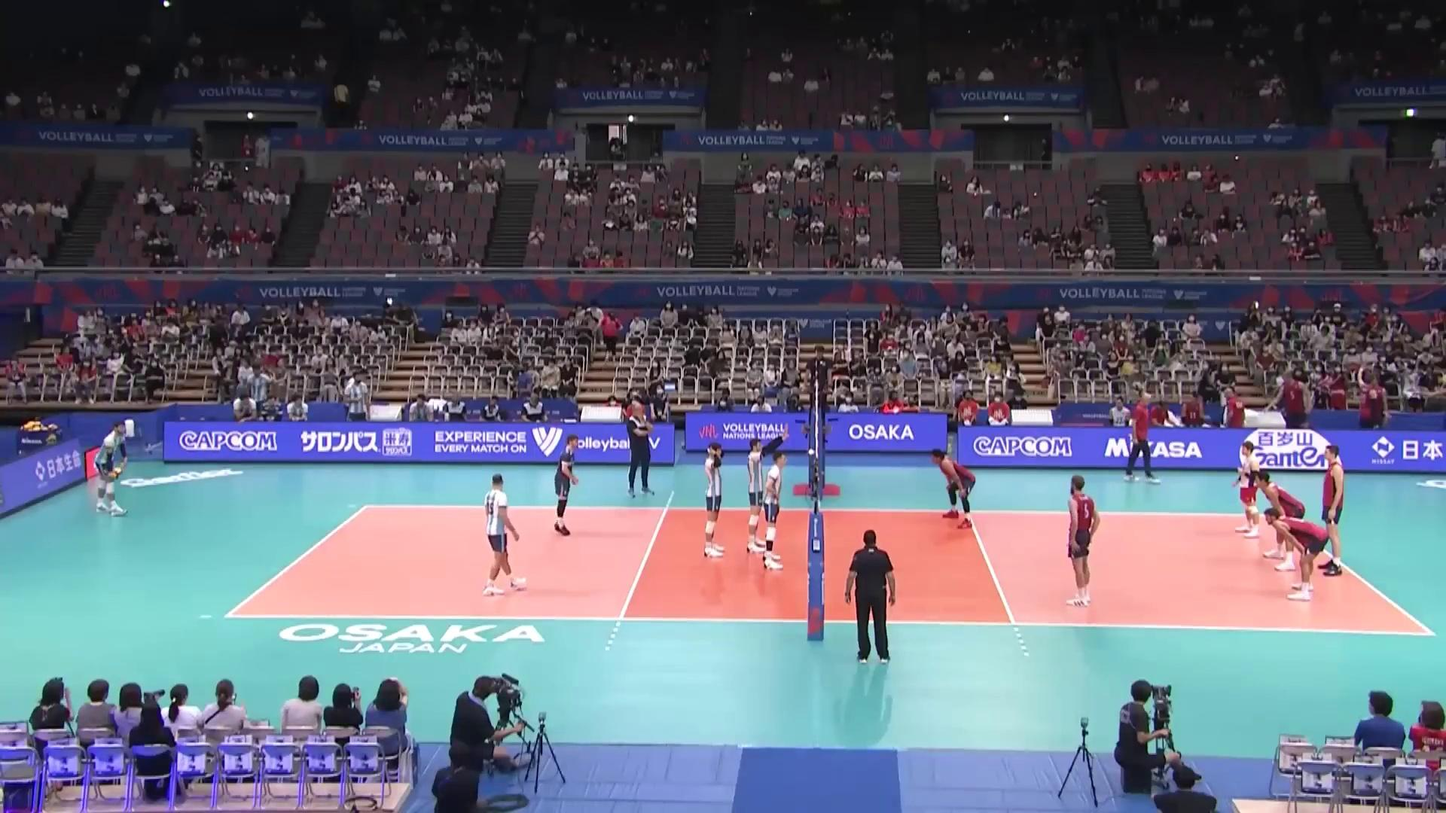player: (1265, 506, 1329, 601), (483, 473, 529, 596), (1063, 475, 1101, 608), (1257, 471, 1305, 571), (929, 448, 978, 531), (745, 435, 778, 556), (1319, 443, 1348, 578), (93, 420, 132, 514), (761, 454, 789, 573), (550, 435, 582, 537), (700, 442, 725, 563), (1233, 443, 1262, 539)
refree: (845, 528, 895, 666), (802, 345, 832, 433)
